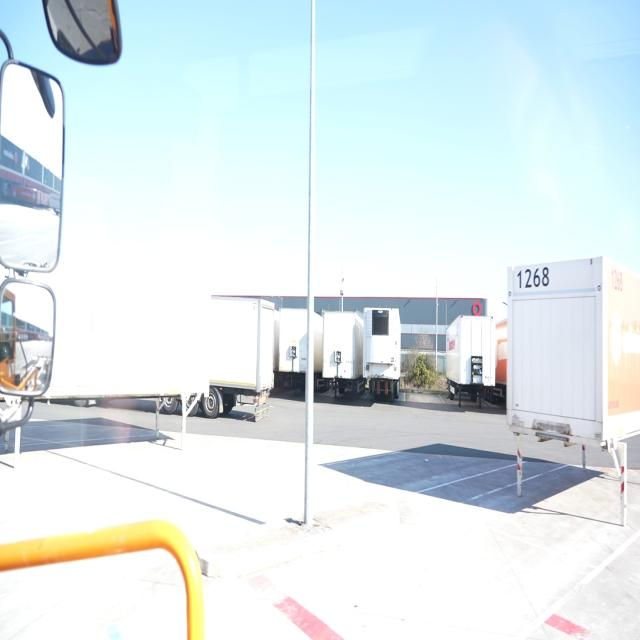Code: (513, 260, 552, 292)
